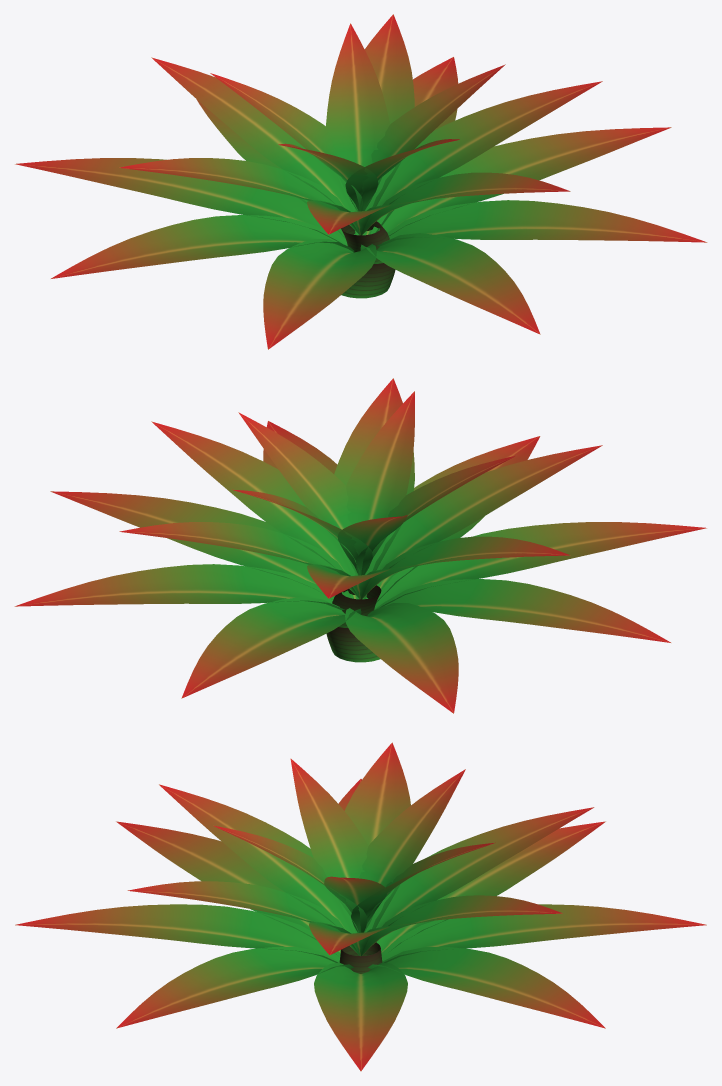
The model's file is Bromeliad.glb.
3 renders of one model, top to bottom at view 1: azimuth 30°, elevation 25°; view 2: azimuth 150°, elevation 25°; view 3: azimuth 270°, elevation 25°, orthographic. The views are drawn at different scales.
Visible parts, largest first — view 1: Planta_11_Bromelia_Roja; view 2: Planta_11_Bromelia_Roja; view 3: Planta_11_Bromelia_Roja.
Part boxes in pixels (x1=…): Planta_11_Bromelia_Roja: x1=15, y1=14, x2=707, y2=349; Planta_11_Bromelia_Roja: x1=14, y1=378, x2=706, y2=713; Planta_11_Bromelia_Roja: x1=15, y1=742, x2=706, y2=1071.
Bounding box in the file's own units: 3.28 × 0.9948 × 3.28.
Materials: 2 (2 with a texture image).
